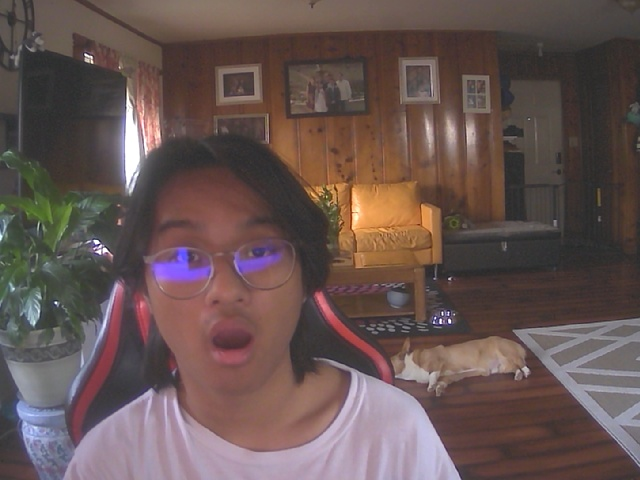fear: (132, 133, 311, 391)
